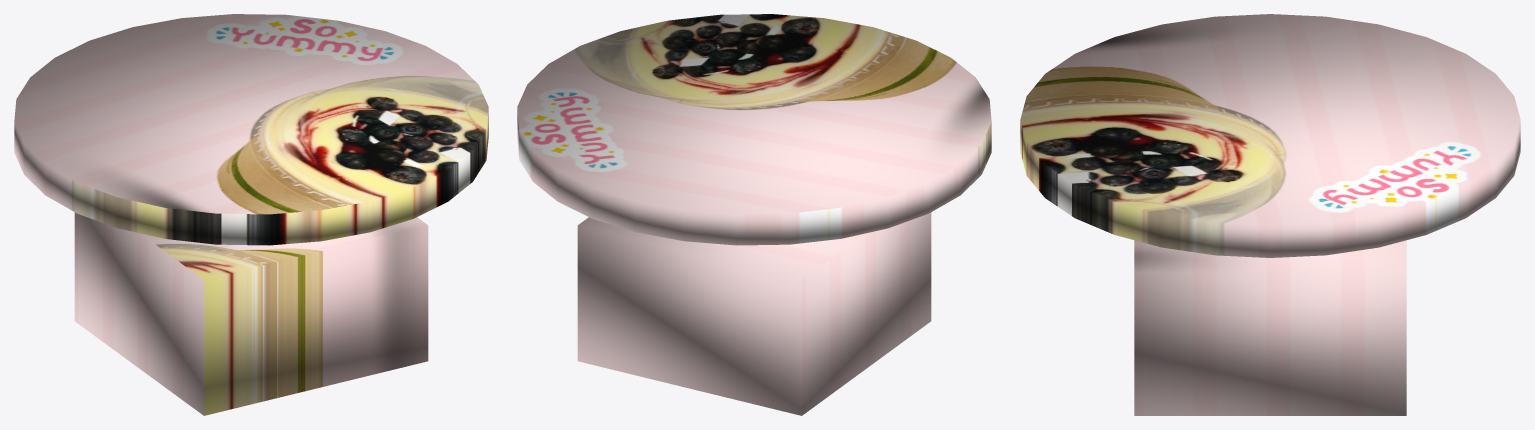
The model's file is prop_lemon_blueberry_bento.glb.
3 views of the same model, side by side, from view 1: azimuth 30°, elevation 25°; view 2: azimuth 150°, elevation 25°; view 3: azimuth 270°, elevation 25° (orthographic). The views are drawn at different scales.
Visible parts, largest first — view 1: prop_lemon_blueberry_bento; view 2: prop_lemon_blueberry_bento; view 3: prop_lemon_blueberry_bento.
Boxes of the visible parts, x1,y1,x2,y2 form: prop_lemon_blueberry_bento: (14, 14, 488, 415); prop_lemon_blueberry_bento: (517, 14, 991, 415); prop_lemon_blueberry_bento: (1020, 14, 1520, 415).
Size of the model in its own units: 0.1111 by 0.0585 by 0.1111.
Materials: 1 (1 with a texture image).
